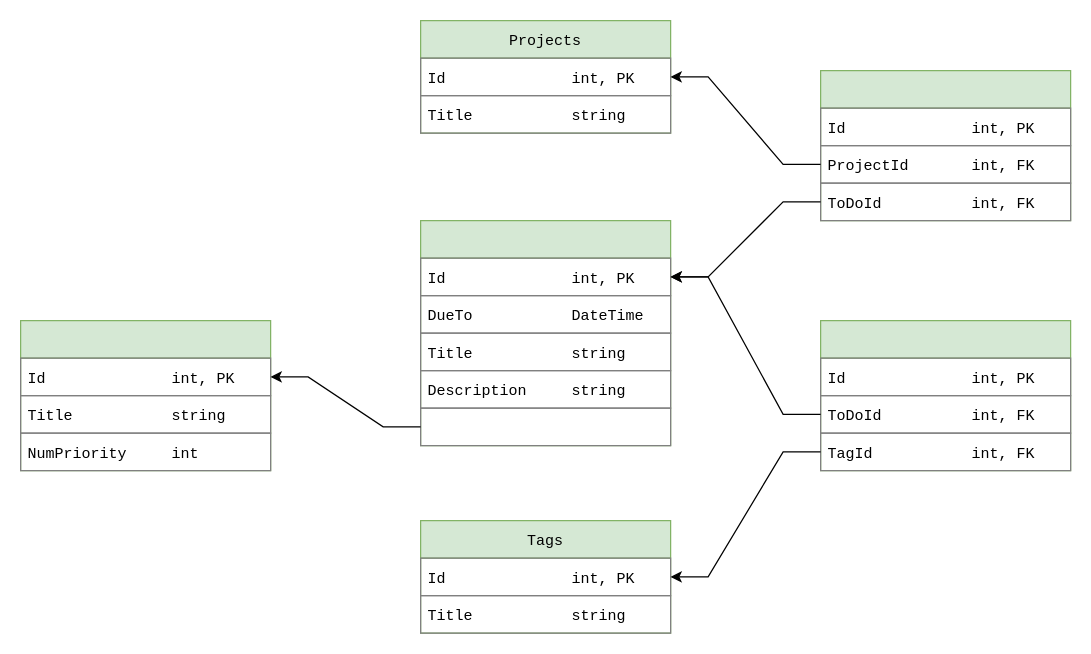
Some shapes in this 1091 by 654 pixel diagram are drawn without their labels. Here are the shapes that lost their labels. From the top down, the box of each, then its label:
(819, 69, 1071, 221): ToDos_Projects
(419, 219, 671, 446): ToDos
(19, 319, 271, 471): Priorities
(819, 319, 1071, 471): ToDos_Tags
(419, 407, 671, 446): PriorityId int, FK
